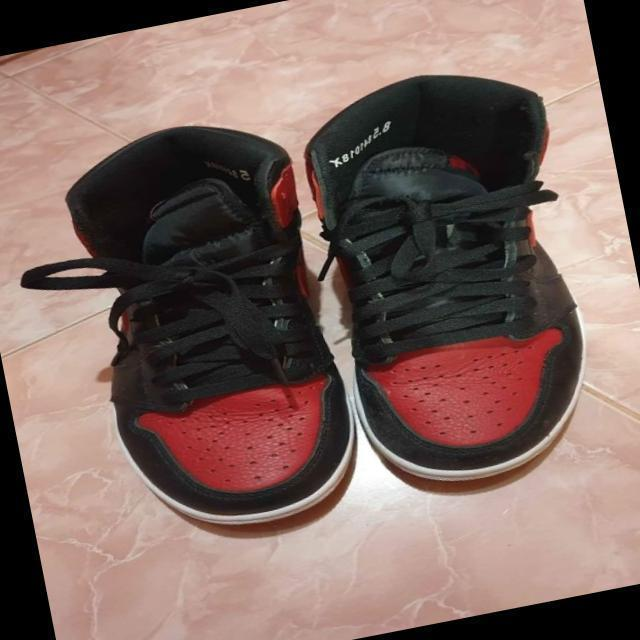nike original jordan 1: (290, 52, 620, 524), (43, 103, 380, 552)
